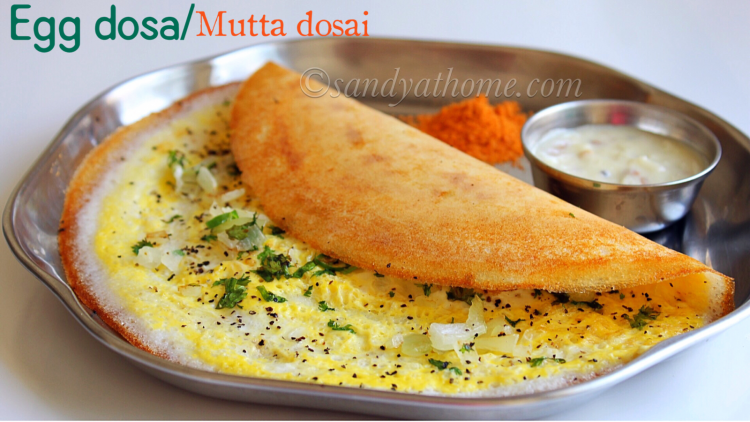dosa: (56, 59, 737, 400)
